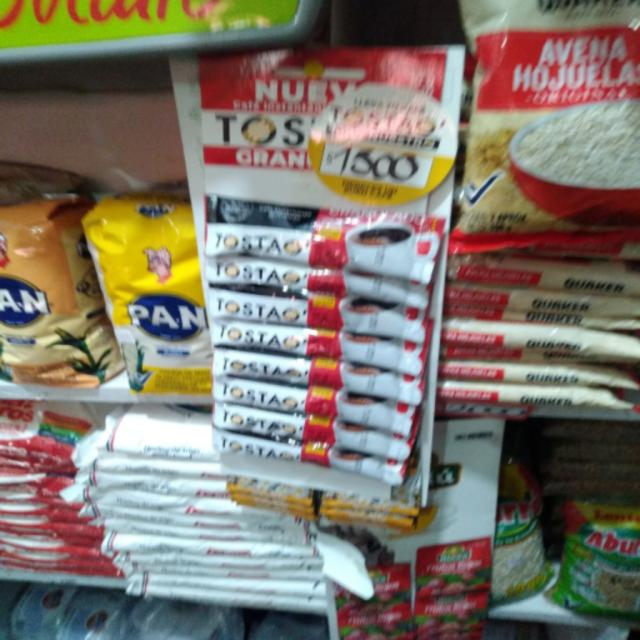Arina_pan: (83, 197, 214, 399), (1, 183, 128, 388)
Precio: (315, 101, 455, 200)
Sobre_cafe: (206, 197, 447, 287), (212, 321, 429, 377), (208, 258, 431, 311), (212, 352, 428, 406), (213, 379, 416, 436), (214, 406, 418, 462), (213, 290, 428, 343), (213, 428, 406, 487)
